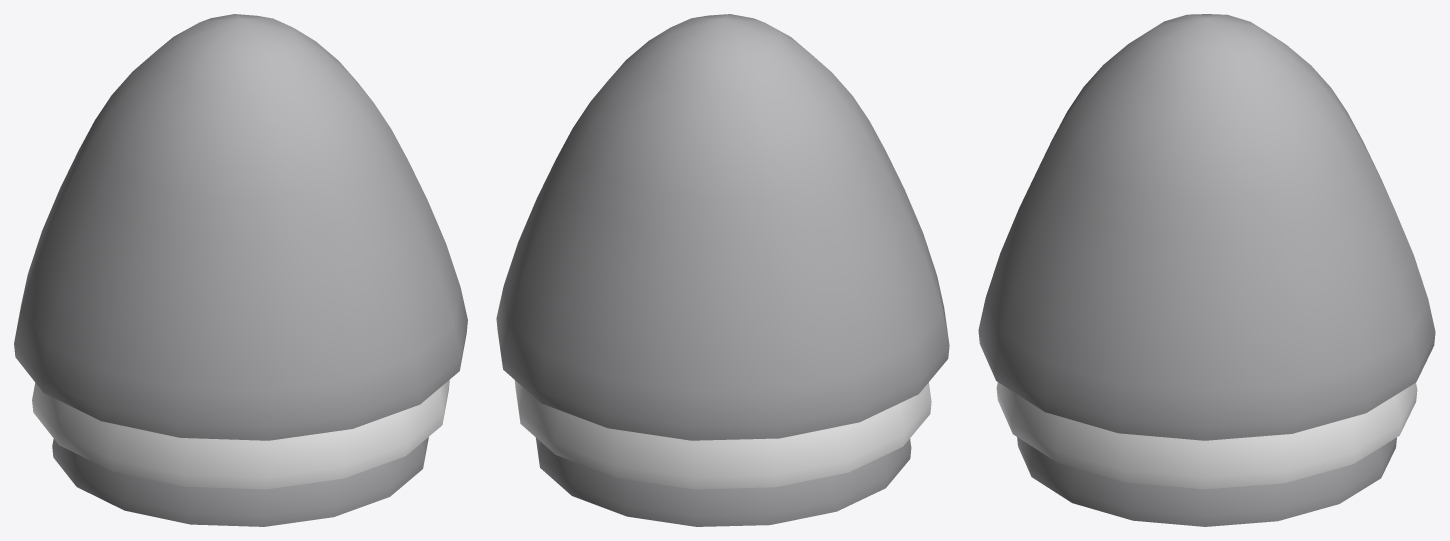
File: head1.fbx
3 views of the same model, side by side, from view 1: azimuth 30°, elevation 25°; view 2: azimuth 150°, elevation 25°; view 3: azimuth 270°, elevation 25° (orthographic).
Visible parts, largest first — view 1: head_lv1; view 2: head_lv1; view 3: head_lv1.
Boxes of the visible parts, box(x1,y1,x2,y2) form: head_lv1: box(14, 14, 467, 526); head_lv1: box(496, 14, 949, 526); head_lv1: box(978, 14, 1435, 526).
Size of the model in its own units: 131 by 136 by 131.
1 material, 1 textured.
